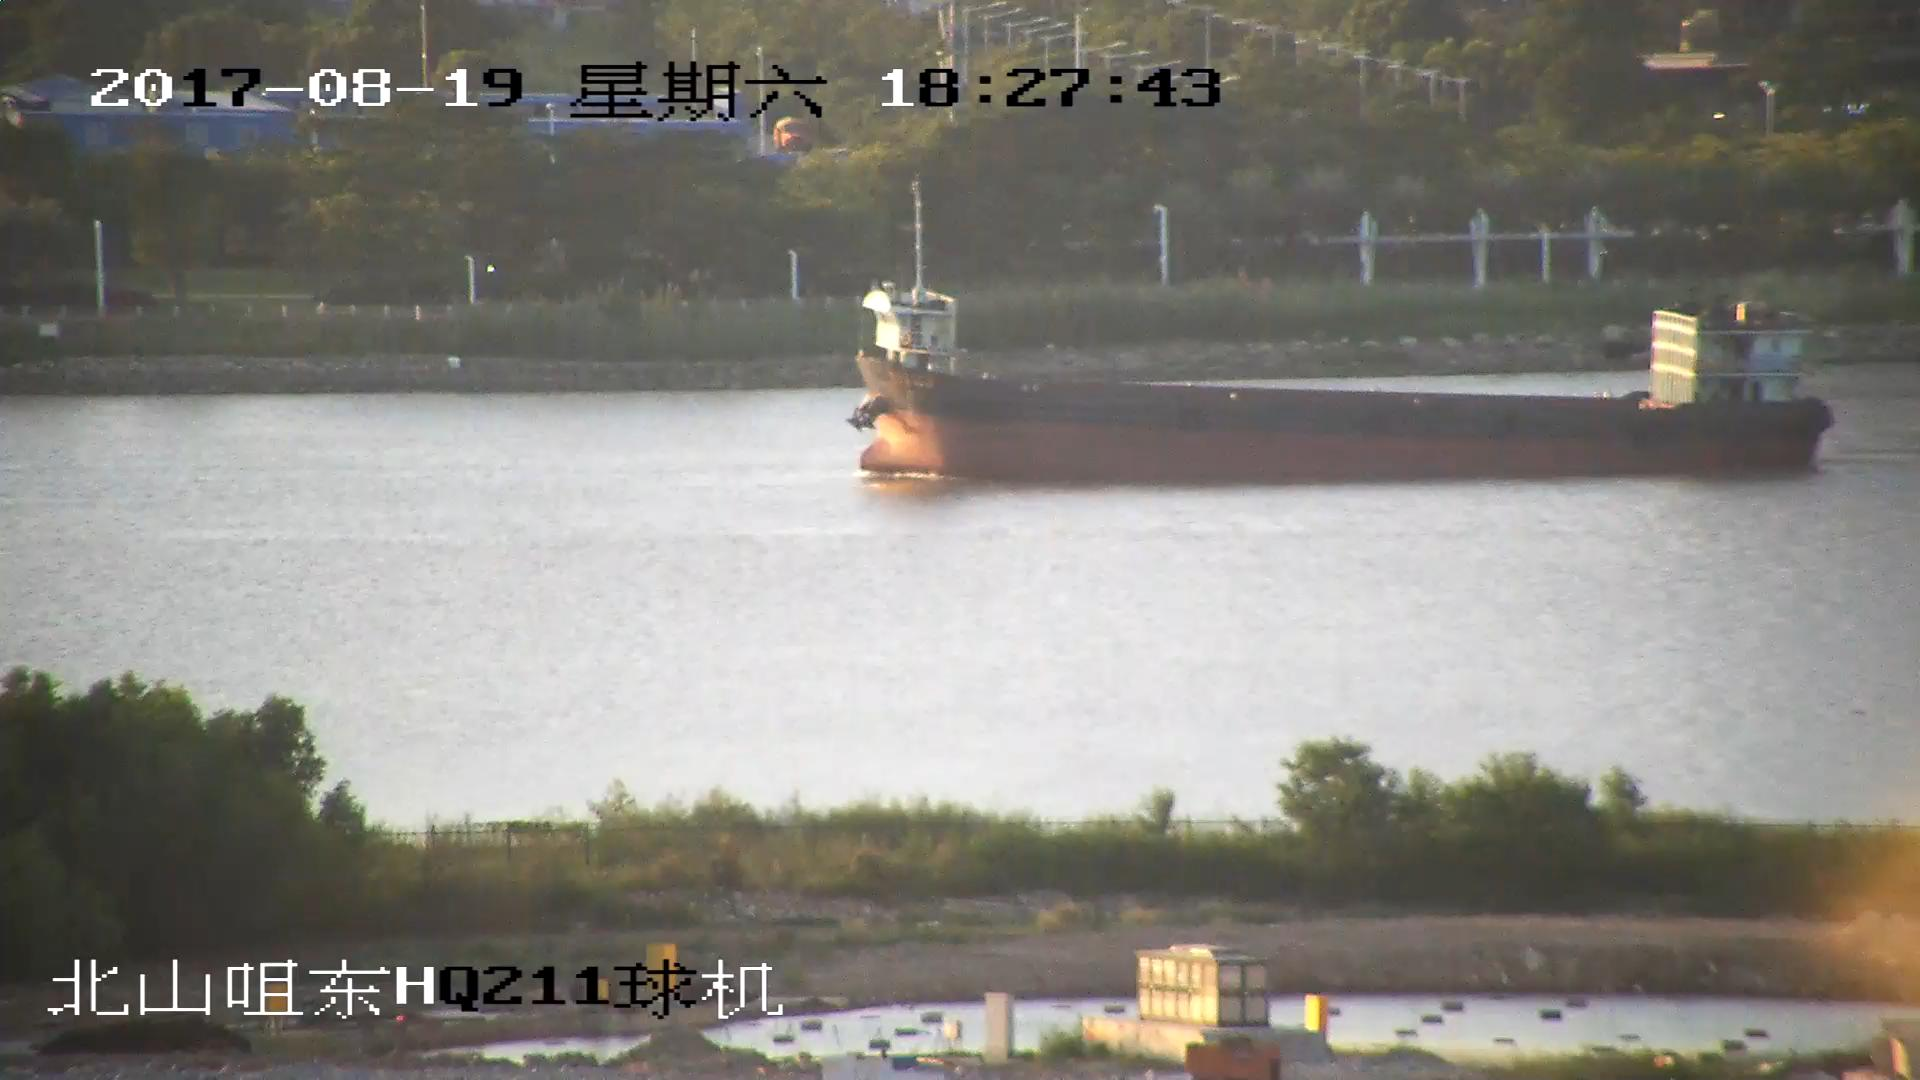general cargo ship: (844, 285, 1823, 483)
